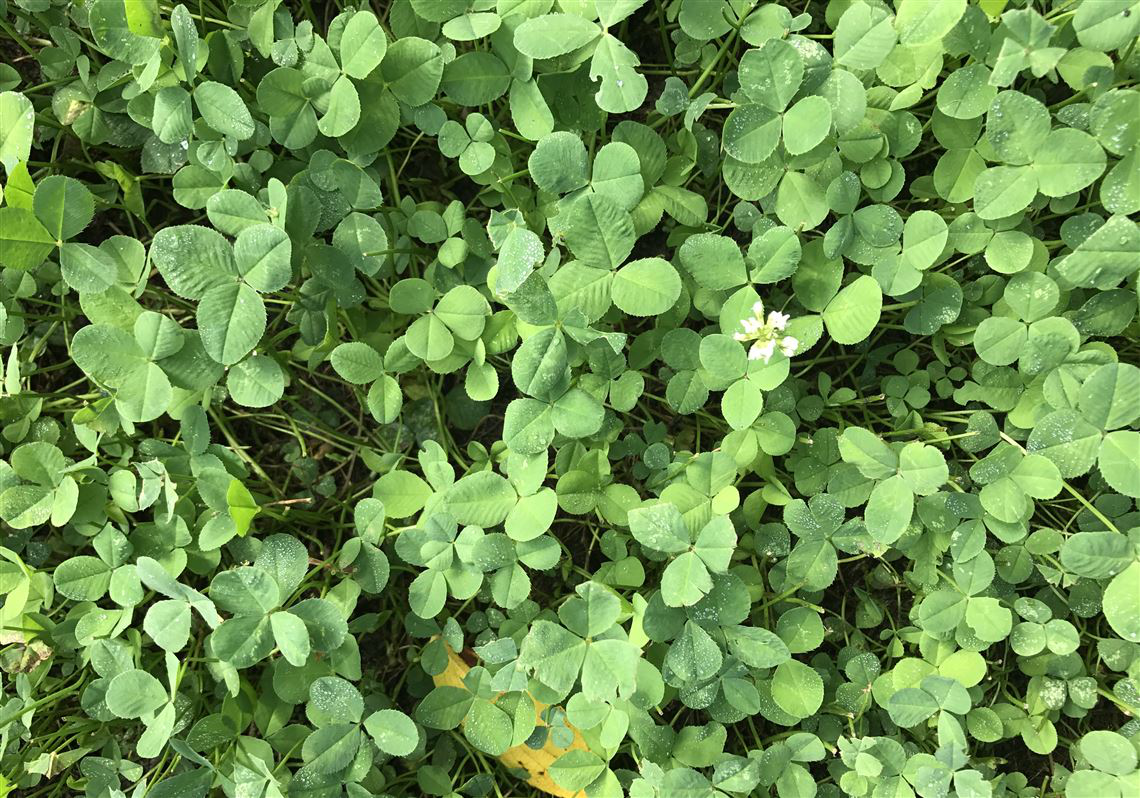clover: (12, 10, 1121, 784)
